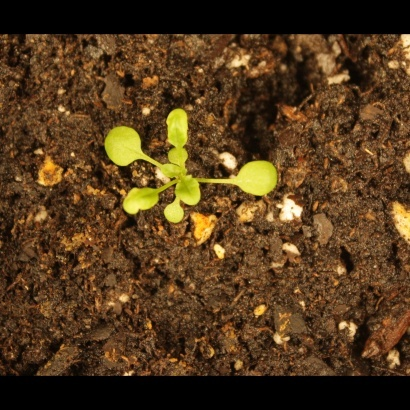leaf: (93, 124, 149, 172), (230, 157, 286, 202), (119, 185, 163, 219), (163, 104, 195, 150), (175, 176, 204, 211), (161, 199, 189, 230), (158, 159, 190, 183), (167, 144, 190, 167)
